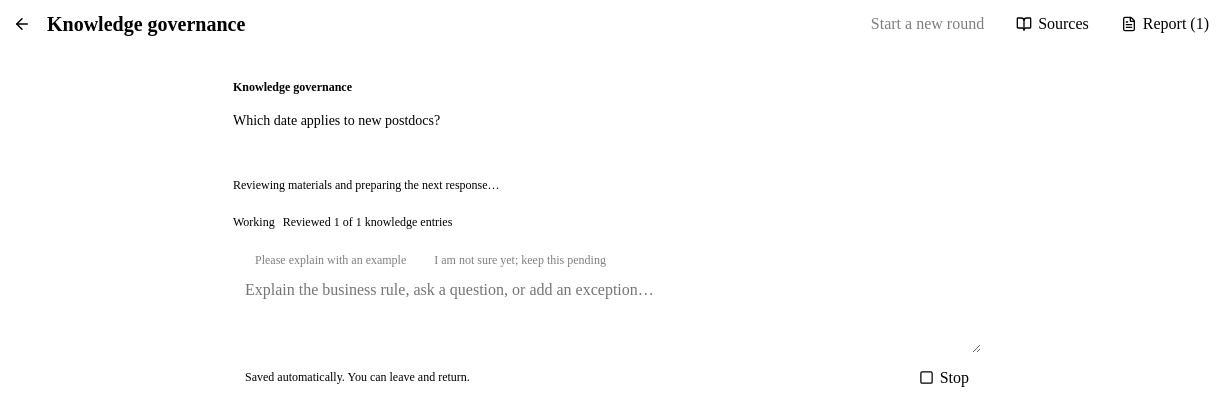
Test: governance page contract › explicit Stop is distinct from detaching a running page
expect the text box is disabled: met, box [245,281,981,353]
Click the button "Stop" at (944, 378), box [907,361,981,395]
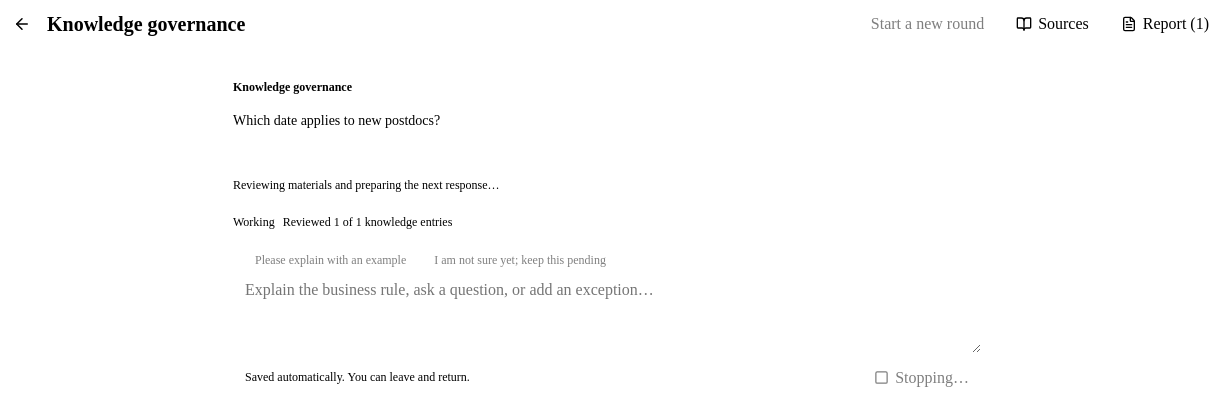
expect the text "Stopping…" is shown: met, box [862,361,981,395]
